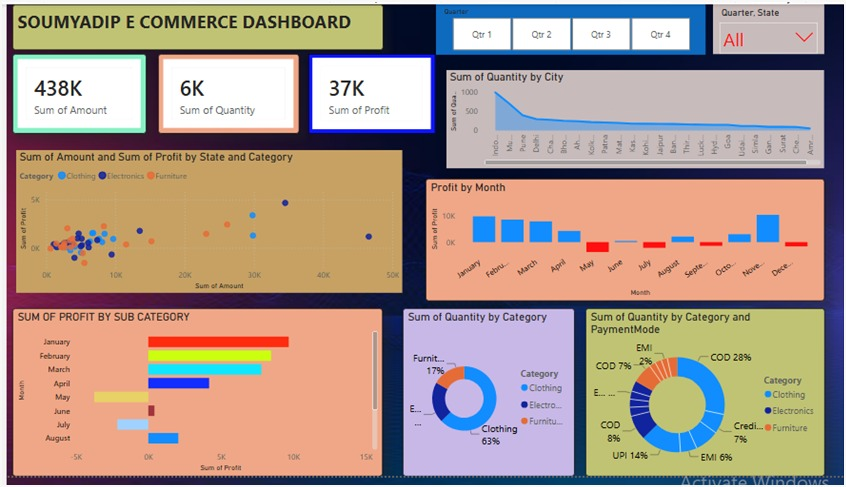

This screenshot's page, from the dashboard's own definition file:
{"tool":"powerbi","page":{"name":"Page 1","canvas":[1280,720],"ordinal":0},"visuals":[{"type":"textbox","box":[9.1,0,566.9,70.1],"z":0},{"type":"columnChart","title":"Profit by Month","fields":{"Y":["Sum(Details.Profit)"],"Category":["Orders.Order Date.Variation.Date Hierarchy.Month"]},"box":[640,265.6,609.5,187.2],"z":1000},{"type":"barChart","title":"SUM OF PROFIT BY SUB CATEGORY","fields":{"Category":["Orders.Order Date.Variation.Date Hierarchy.Month"],"Y":["Sum(Details.Profit)"]},"box":[8.7,463.7,566,256.9],"z":2000},{"type":"donutChart","fields":{"Category":["Details.Category"],"Y":["Sum(Details.Quantity)"]},"box":[605.2,463.7,263.4,256.9],"z":3000},{"type":"donutChart","fields":{"Category":["Details.Category"],"Y":["Sum(Details.Quantity)"],"Series":["Details.PaymentMode"]},"box":[883.8,463.7,365.7,256.9],"z":4000},{"type":"cardVisual","fields":{"Data":["Sum(Details.Amount)"]},"box":[8.7,76.2,204.6,121.9],"z":5000},{"type":"cardVisual","fields":{"Data":["Sum(Details.Quantity)"]},"box":[230.7,76.2,215.5,121.9],"z":6000},{"type":"cardVisual","fields":{"Data":["Sum(Details.Profit)"]},"box":[461.5,76.2,193.7,121.9],"z":7000},{"type":"scatterChart","fields":{"X":["Sum(Details.Amount)"],"Category":["Orders.State"],"Y":["Sum(Details.Profit)"],"Series":["Details.Category"]},"box":[15.2,222,589.9,217.7],"z":8000},{"type":"stackedAreaChart","fields":{"Category":["Orders.City"],"Y":["Sum(Details.Quantity)"]},"box":[672.7,100.1,576.9,150.2],"z":9000},{"type":"slicer","fields":{"Values":["Orders.Order Date.Variation.Date Hierarchy.Quarter"]},"box":[655.7,0,411.6,76.7],"z":10000},{"type":"slicer","fields":{"Values":["Orders.Order Date.Variation.Date Hierarchy.Quarter","Orders.State"]},"box":[1079.7,0,169.8,76.2],"z":11000}]}

Visuals, with their boxes in screenshot pixels (x1, y1, x2, y2), scaled from the page's 1280x720 canvas onto the 846x487 screenshot:
textbox: <bbox>6, 0, 381, 47</bbox>
"Profit by Month" columnChart: <bbox>423, 180, 826, 306</bbox>
"SUM OF PROFIT BY SUB CATEGORY" barChart: <bbox>6, 314, 380, 486</bbox>
donutChart - Details.Category x Sum(Details.Quantity): <bbox>400, 314, 574, 486</bbox>
donutChart - Details.Category x Sum(Details.Quantity): <bbox>584, 314, 826, 486</bbox>
cardVisual - Sum(Details.Amount): <bbox>6, 52, 141, 134</bbox>
cardVisual - Sum(Details.Quantity): <bbox>152, 52, 295, 134</bbox>
cardVisual - Sum(Details.Profit): <bbox>305, 52, 433, 134</bbox>
scatterChart - Sum(Details.Amount) x Orders.State: <bbox>10, 150, 400, 297</bbox>
stackedAreaChart - Orders.City x Sum(Details.Quantity): <bbox>445, 68, 826, 169</bbox>
slicer - Orders.Order Date.Variation.Date Hierarchy.Quarter: <bbox>433, 0, 705, 52</bbox>
slicer - Orders.Order Date.Variation.Date Hierarchy.Quarter x Orders.State: <bbox>714, 0, 826, 52</bbox>
